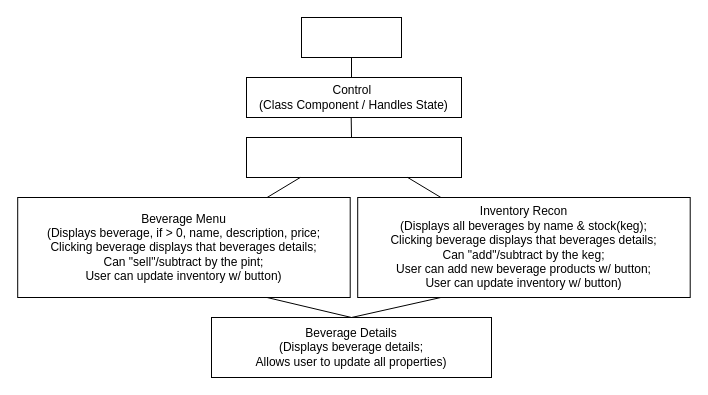
This 708x395 diagram has some shape labels left out. The centre of each missing label's shape, as x and y in pixels:
"App" goes at point (351, 37).
"Beverage Inventory (Holds list of bev objects)" goes at point (354, 157).
